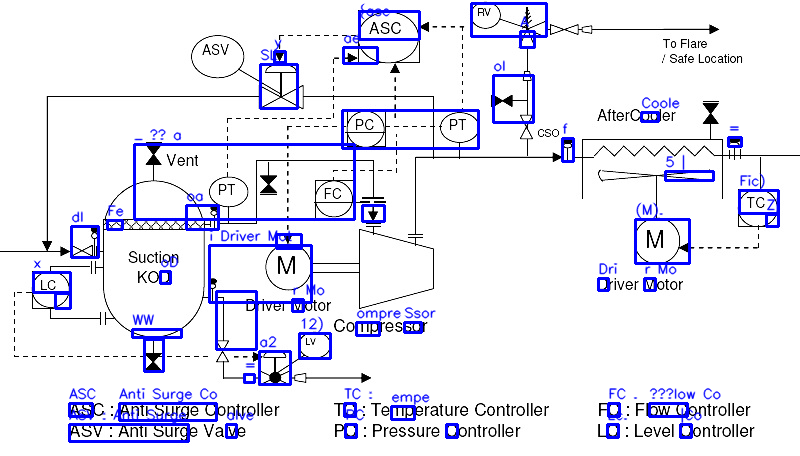Compressor: (357, 224, 439, 310)
Instrumento: (735, 185, 782, 230), (345, 106, 388, 150), (313, 178, 356, 221), (438, 110, 481, 144), (206, 176, 251, 207)
Misturador: (592, 164, 716, 266)
Motor: (263, 242, 314, 292)
Vaso: (100, 173, 205, 340)
Válvula: (255, 61, 308, 112), (256, 343, 295, 389), (513, 2, 549, 51), (30, 269, 72, 310), (548, 21, 580, 40), (518, 111, 536, 142), (214, 336, 230, 365)
